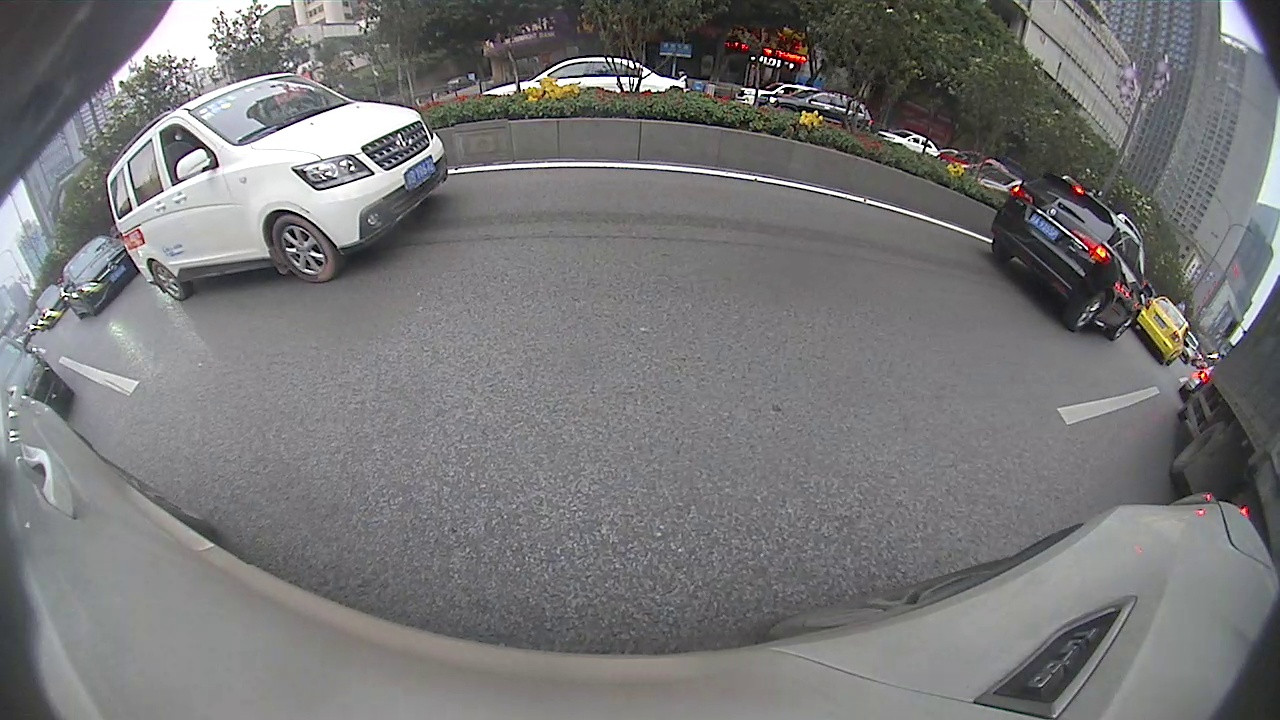car: (104, 72, 450, 302), (988, 168, 1145, 340), (60, 237, 136, 318), (1138, 294, 1190, 366)
front: (273, 218, 333, 282), (1112, 316, 1135, 342)
rear: (1070, 290, 1105, 334), (149, 261, 185, 300)
